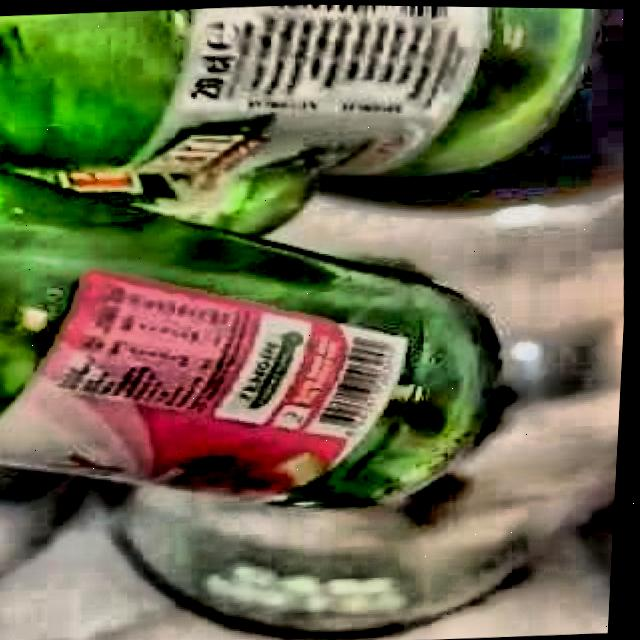glass: (0, 4, 590, 504)
